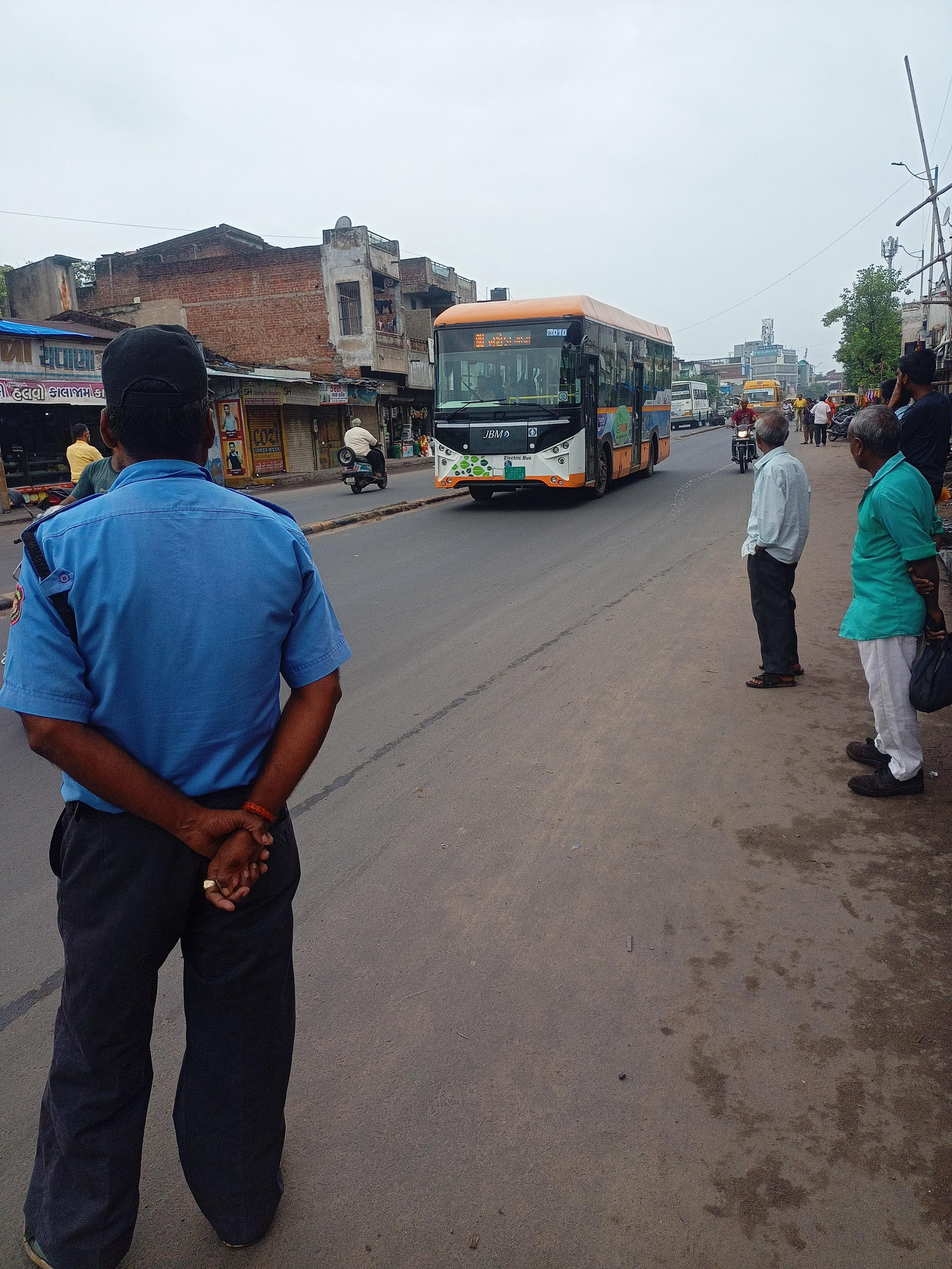green license plate: (493, 462, 535, 490)
